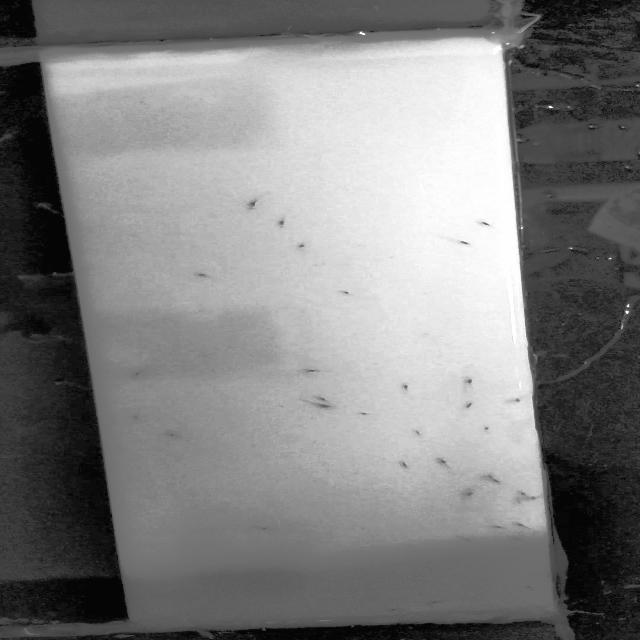shrimp: (129, 362, 158, 380), (462, 214, 493, 230), (284, 240, 315, 254), (439, 234, 475, 246), (458, 533, 491, 545), (486, 521, 514, 534), (512, 522, 542, 534), (460, 373, 479, 391), (314, 393, 350, 402), (408, 428, 434, 440), (502, 395, 526, 408), (245, 196, 267, 210), (297, 367, 327, 377), (487, 473, 510, 486), (515, 490, 536, 504), (255, 526, 287, 535), (435, 457, 459, 469), (304, 400, 338, 408), (272, 217, 296, 228), (508, 539, 533, 549), (158, 431, 185, 440), (396, 462, 421, 471), (460, 400, 480, 411), (335, 287, 357, 297), (194, 272, 216, 281), (521, 586, 545, 594), (477, 424, 496, 434), (395, 383, 414, 393), (354, 412, 374, 421), (132, 411, 150, 421), (389, 604, 404, 614), (425, 599, 446, 606), (464, 491, 479, 499)
